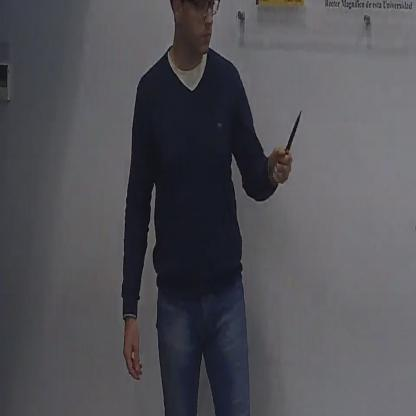knife: (275, 102, 305, 181)
